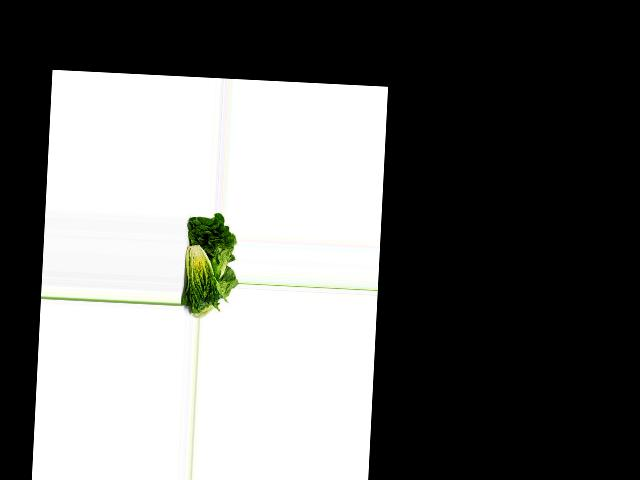lettuce: (181, 213, 237, 277)
